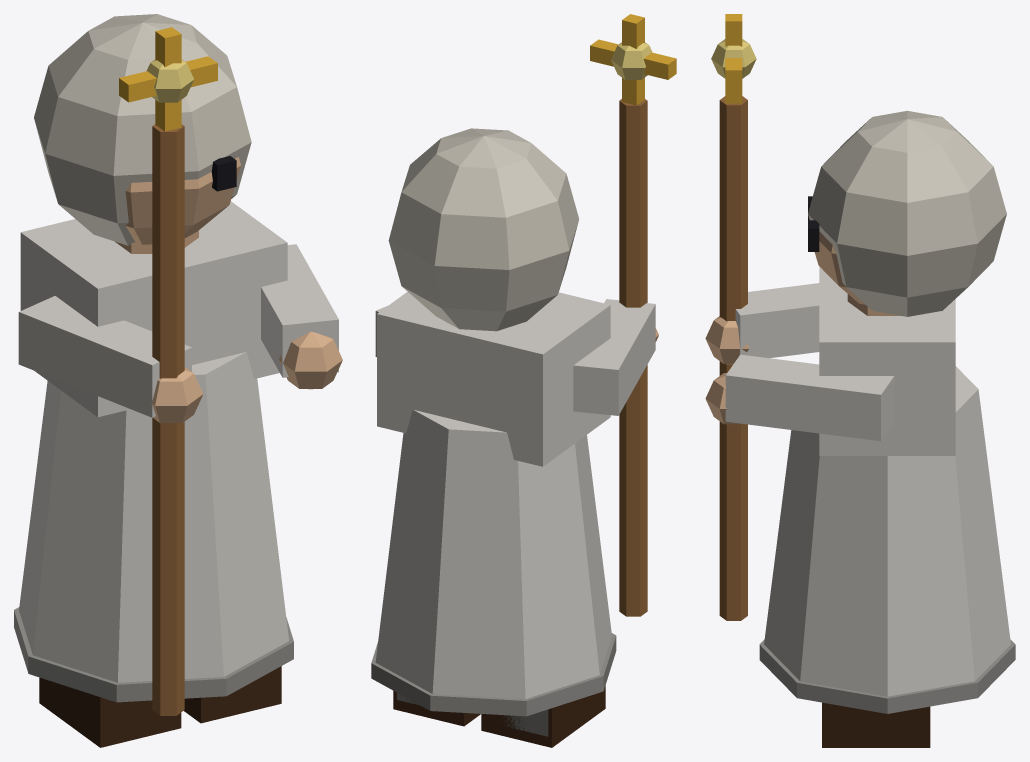
The model's file is u_acolyte.fbx.
3 views of the same model, side by side, from view 1: azimuth 30°, elevation 25°; view 2: azimuth 150°, elevation 25°; view 3: azimuth 270°, elevation 25° (orthographic). The views are drawn at different scales.
Parts seen in each view (by area): view 1: u_acolyte_Body, u_acolyte_LegR, u_acolyte_LegL; view 2: u_acolyte_Body, u_acolyte_LegR, u_acolyte_LegL; view 3: u_acolyte_Body, u_acolyte_LegL.
Part boxes in pixels (bbox=[...]): u_acolyte_Body: bbox=[14, 14, 342, 715]; u_acolyte_LegR: bbox=[39, 677, 181, 747]; u_acolyte_LegL: bbox=[184, 666, 281, 723]; u_acolyte_Body: bbox=[371, 14, 676, 716]; u_acolyte_LegR: bbox=[481, 686, 605, 747]; u_acolyte_LegL: bbox=[393, 691, 480, 726]; u_acolyte_Body: bbox=[705, 14, 1015, 713]; u_acolyte_LegL: bbox=[822, 702, 930, 747].
Size of the model in its own units: 0.4977 by 1.28 by 0.545.
